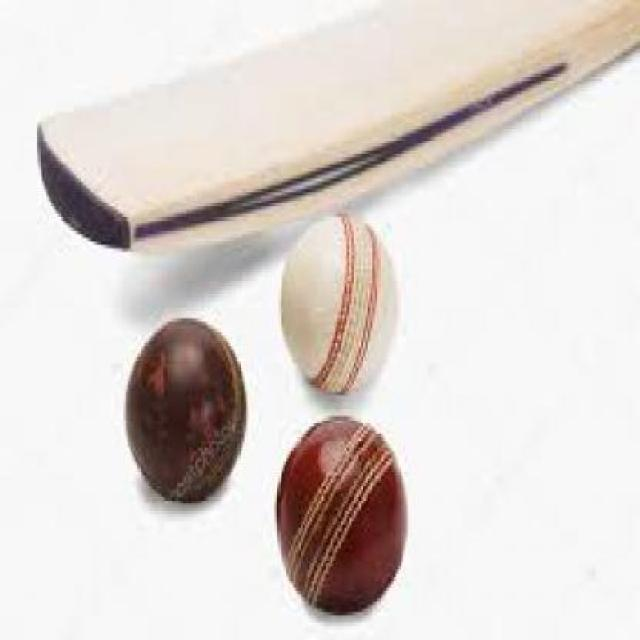ball: (78, 292, 262, 520)
